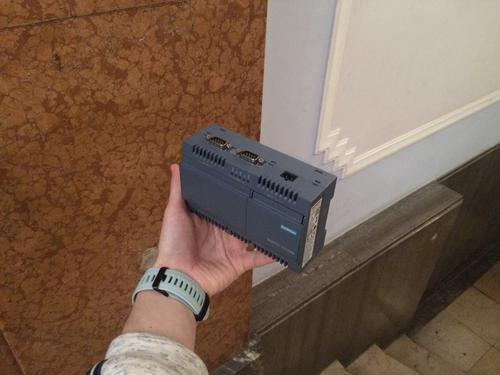iot2000: (179, 122, 338, 276)
